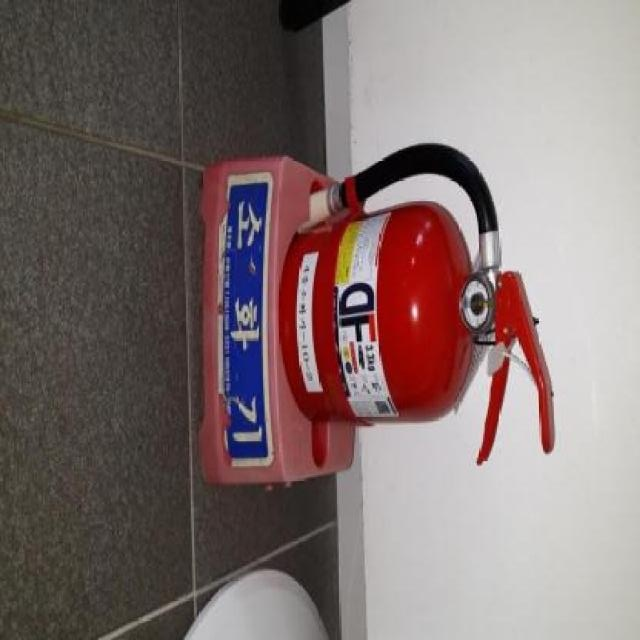fire extinguisher: (280, 143, 555, 468)
